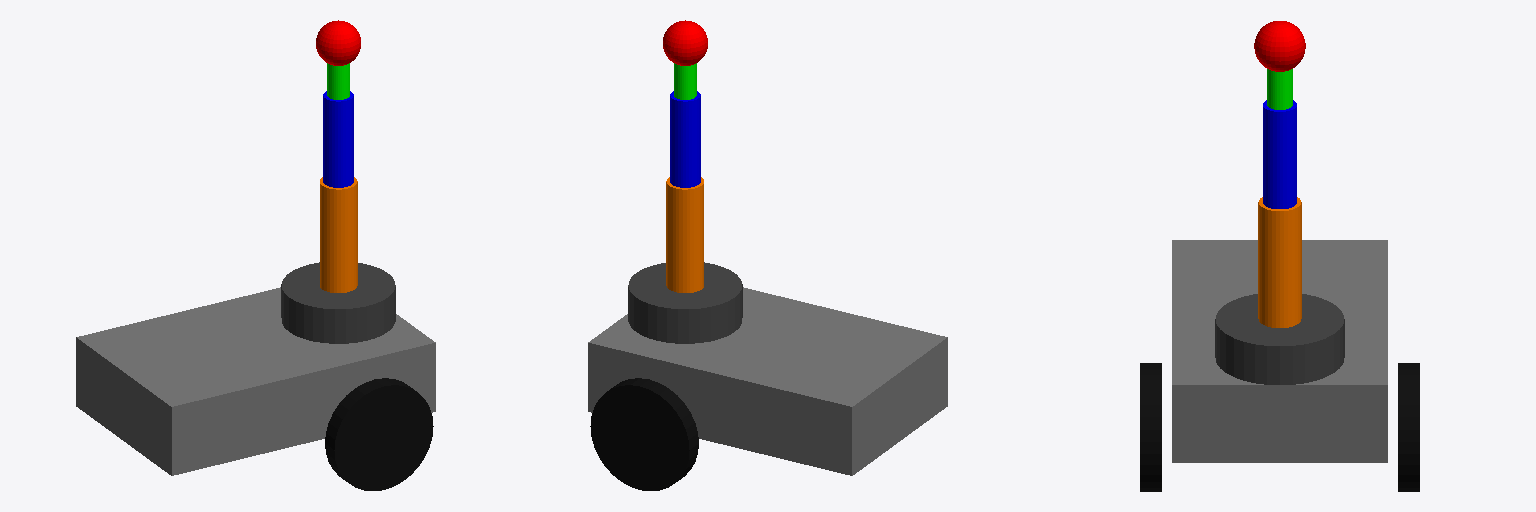
robot.urdf — mobile_manipulator:
<?xml version="1.0"?>
<robot name="mobile_manipulator">

  <!-- ========================================
       MOBILE BASE (from mobile_robot.urdf)
       ======================================== -->

  <!-- Main body -->
  <link name="base_link">
    <inertial>
      <mass value="10.0"/>
      <origin xyz="0 0 0"/>
      <inertia ixx="0.1" ixy="0.0" ixz="0.0" iyy="0.15" iyz="0.0" izz="0.2"/>
    </inertial>
    <visual>
      <geometry>
        <box size="0.8 0.5 0.2"/>
      </geometry>
      <material name="gray">
        <color rgba="0.5 0.5 0.5 1.0"/>
      </material>
    </visual>
    <collision>
      <geometry>
        <box size="0.8 0.5 0.2"/>
      </geometry>
    </collision>
  </link>

  <!-- Left wheel -->
  <link name="left_wheel">
    <inertial>
      <mass value="0.5"/>
      <origin xyz="0 0 0"/>
      <inertia ixx="0.001" ixy="0.0" ixz="0.0" iyy="0.001" iyz="0.0" izz="0.001"/>
    </inertial>
    <visual>
      <geometry>
        <cylinder radius="0.15" length="0.05"/>
      </geometry>
      <material name="black">
        <color rgba="0.1 0.1 0.1 1.0"/>
      </material>
    </visual>
    <collision>
      <geometry>
        <cylinder radius="0.15" length="0.05"/>
      </geometry>
    </collision>
  </link>

  <!-- Right wheel -->
  <link name="right_wheel">
    <inertial>
      <mass value="0.5"/>
      <origin xyz="0 0 0"/>
      <inertia ixx="0.001" ixy="0.0" ixz="0.0" iyy="0.001" iyz="0.0" izz="0.001"/>
    </inertial>
    <visual>
      <geometry>
        <cylinder radius="0.15" length="0.05"/>
      </geometry>
      <material name="black">
        <color rgba="0.1 0.1 0.1 1.0"/>
      </material>
    </visual>
    <collision>
      <geometry>
        <cylinder radius="0.15" length="0.05"/>
      </geometry>
    </collision>
  </link>

  <!-- Wheel joints -->
  <joint name="base_to_left_wheel" type="continuous">
    <parent link="base_link"/>
    <child link="left_wheel"/>
    <origin xyz="0.2 0.3 -0.1" rpy="1.5708 0 0"/>
    <axis xyz="0 0 1"/>
  </joint>

  <joint name="base_to_right_wheel" type="continuous">
    <parent link="base_link"/>
    <child link="right_wheel"/>
    <origin xyz="0.2 -0.3 -0.1" rpy="1.5708 0 0"/>
    <axis xyz="0 0 1"/>
  </joint>

  <!-- ========================================
       ARM MOUNT (connects arm to mobile base)
       ======================================== -->

  <!-- Arm mount platform (on top of base) -->
  <link name="arm_mount">
    <inertial>
      <mass value="1.0"/>
      <origin xyz="0 0 0"/>
      <inertia ixx="0.01" ixy="0.0" ixz="0.0" iyy="0.01" iyz="0.0" izz="0.01"/>
    </inertial>
    <visual>
      <geometry>
        <cylinder radius="0.15" length="0.1"/>
      </geometry>
      <material name="dark_gray">
        <color rgba="0.3 0.3 0.3 1.0"/>
      </material>
    </visual>
    <collision>
      <geometry>
        <cylinder radius="0.15" length="0.1"/>
      </geometry>
    </collision>
  </link>

  <!-- Mount joint (fixed to front-top of base) -->
  <joint name="base_to_mount" type="fixed">
    <parent link="base_link"/>
    <child link="arm_mount"/>
    <origin xyz="0.25 0.0 0.15" rpy="0 0 0"/>
  </joint>

  <!-- ========================================
       ARM (from arm_robot.urdf)
       ======================================== -->

  <!-- Shoulder link (first arm segment) -->
  <link name="shoulder_link">
    <inertial>
      <mass value="0.5"/>
      <origin xyz="0 0 0.15"/>
      <inertia ixx="0.005" ixy="0.0" ixz="0.0" iyy="0.005" iyz="0.0" izz="0.001"/>
    </inertial>
    <visual>
      <geometry>
        <cylinder radius="0.05" length="0.3"/>
      </geometry>
      <material name="orange">
        <color rgba="1.0 0.5 0.0 1.0"/>
      </material>
      <origin rpy="0 0 0" xyz="0 0 0.15"/>
    </visual>
    <collision>
      <geometry>
        <cylinder radius="0.05" length="0.3"/>
      </geometry>
      <origin rpy="0 0 0" xyz="0 0 0.15"/>
    </collision>
  </link>

  <!-- Elbow link (second arm segment) -->
  <link name="elbow_link">
    <inertial>
      <mass value="0.3"/>
      <origin xyz="0 0 0.125"/>
      <inertia ixx="0.003" ixy="0.0" ixz="0.0" iyy="0.003" iyz="0.0" izz="0.0005"/>
    </inertial>
    <visual>
      <geometry>
        <cylinder radius="0.04" length="0.25"/>
      </geometry>
      <material name="blue">
        <color rgba="0.0 0.0 1.0 1.0"/>
      </material>
      <origin rpy="0 0 0" xyz="0 0 0.125"/>
    </visual>
    <collision>
      <geometry>
        <cylinder radius="0.04" length="0.25"/>
      </geometry>
      <origin rpy="0 0 0" xyz="0 0 0.125"/>
    </collision>
  </link>

  <!-- Wrist link (third arm segment) -->
  <link name="wrist_link">
    <inertial>
      <mass value="0.2"/>
      <origin xyz="0 0 0.075"/>
      <inertia ixx="0.001" ixy="0.0" ixz="0.0" iyy="0.001" iyz="0.0" izz="0.0003"/>
    </inertial>
    <visual>
      <geometry>
        <cylinder radius="0.03" length="0.15"/>
      </geometry>
      <material name="green">
        <color rgba="0.0 1.0 0.0 1.0"/>
      </material>
      <origin rpy="0 0 0" xyz="0 0 0.075"/>
    </visual>
    <collision>
      <geometry>
        <cylinder radius="0.03" length="0.15"/>
      </geometry>
      <origin rpy="0 0 0" xyz="0 0 0.075"/>
    </collision>
  </link>

  <!-- End effector -->
  <link name="end_effector">
    <inertial>
      <mass value="0.1"/>
      <origin xyz="0 0 0"/>
      <inertia ixx="0.0001" ixy="0.0" ixz="0.0" iyy="0.0001" iyz="0.0" izz="0.0001"/>
    </inertial>
    <visual>
      <geometry>
        <sphere radius="0.06"/>
      </geometry>
      <material name="red">
        <color rgba="1.0 0.0 0.0 1.0"/>
      </material>
    </visual>
    <collision>
      <geometry>
        <sphere radius="0.06"/>
      </geometry>
    </collision>
  </link>

  <!-- Arm joints -->

  <!-- Mount to shoulder joint (shoulder rotation - Z axis) -->
  <joint name="mount_to_shoulder" type="revolute">
    <parent link="arm_mount"/>
    <child link="shoulder_link"/>
    <origin xyz="0.0 0.0 0.05" rpy="0 0 0"/>
    <axis xyz="0 0 1"/>
    <limit lower="-3.14159" upper="3.14159" effort="100" velocity="2.0"/>
  </joint>

  <!-- Shoulder to elbow joint (shoulder pitch - X axis) -->
  <joint name="shoulder_to_elbow" type="revolute">
    <parent link="shoulder_link"/>
    <child link="elbow_link"/>
    <origin xyz="0.0 0.0 0.30" rpy="0 0 0"/>
    <axis xyz="1 0 0"/>
    <limit lower="-2.0" upper="2.0" effort="80" velocity="1.8"/>
  </joint>

  <!-- Elbow to wrist joint (elbow pitch - X axis) -->
  <joint name="elbow_to_wrist" type="revolute">
    <parent link="elbow_link"/>
    <child link="wrist_link"/>
    <origin xyz="0.0 0.0 0.25" rpy="0 0 0"/>
    <axis xyz="1 0 0"/>
    <limit lower="-2.5" upper="2.5" effort="60" velocity="1.5"/>
  </joint>

  <!-- Wrist to end effector joint (wrist rotation - Z axis) -->
  <joint name="wrist_to_end" type="revolute">
    <parent link="wrist_link"/>
    <child link="end_effector"/>
    <origin xyz="0.0 0.0 0.15" rpy="0 0 0"/>
    <axis xyz="0 0 1"/>
    <limit lower="-1.57" upper="1.57" effort="40" velocity="1.2"/>
  </joint>

</robot>

--- Render facts (derived) ---
The picture shows the robot from 3 angles, left to right: view 1: azimuth 30°, elevation 25°; view 2: azimuth 150°, elevation 25°; view 3: azimuth 270°, elevation 25°; orthographic projection.
Model mobile_manipulator with 8 links and 7 joints (4 revolute, 2 continuous, 1 fixed), rooted at base_link, posed every joint at zero.
Visible links, largest first — view 1: base_link, right_wheel, arm_mount, shoulder_link, elbow_link, end_effector, wrist_link; view 2: base_link, left_wheel, arm_mount, shoulder_link, elbow_link, end_effector, wrist_link; view 3: base_link, arm_mount, shoulder_link, elbow_link, left_wheel, right_wheel, end_effector, wrist_link.
Link boxes in pixels (box(x1,y1,x2,y2)): base_link: box(76, 287, 435, 475); right_wheel: box(325, 378, 433, 490); arm_mount: box(281, 262, 395, 343); shoulder_link: box(320, 177, 357, 292); elbow_link: box(323, 91, 353, 187); end_effector: box(316, 20, 360, 65); wrist_link: box(327, 63, 349, 99); base_link: box(588, 287, 947, 475); left_wheel: box(590, 378, 698, 490); arm_mount: box(628, 262, 742, 343); shoulder_link: box(666, 177, 703, 292); elbow_link: box(670, 91, 700, 187); end_effector: box(663, 20, 707, 65); wrist_link: box(674, 63, 696, 99); base_link: box(1172, 240, 1387, 462); arm_mount: box(1215, 294, 1344, 384); shoulder_link: box(1258, 197, 1301, 327); elbow_link: box(1263, 100, 1296, 208); left_wheel: box(1398, 363, 1419, 491); right_wheel: box(1140, 363, 1161, 491); end_effector: box(1254, 21, 1305, 71); wrist_link: box(1267, 69, 1292, 109).
Size in the robot's own frame: 0.8 by 0.65 by 1.21 metres.
Geometry: primitives only (box / cylinder / sphere), no mesh files.
